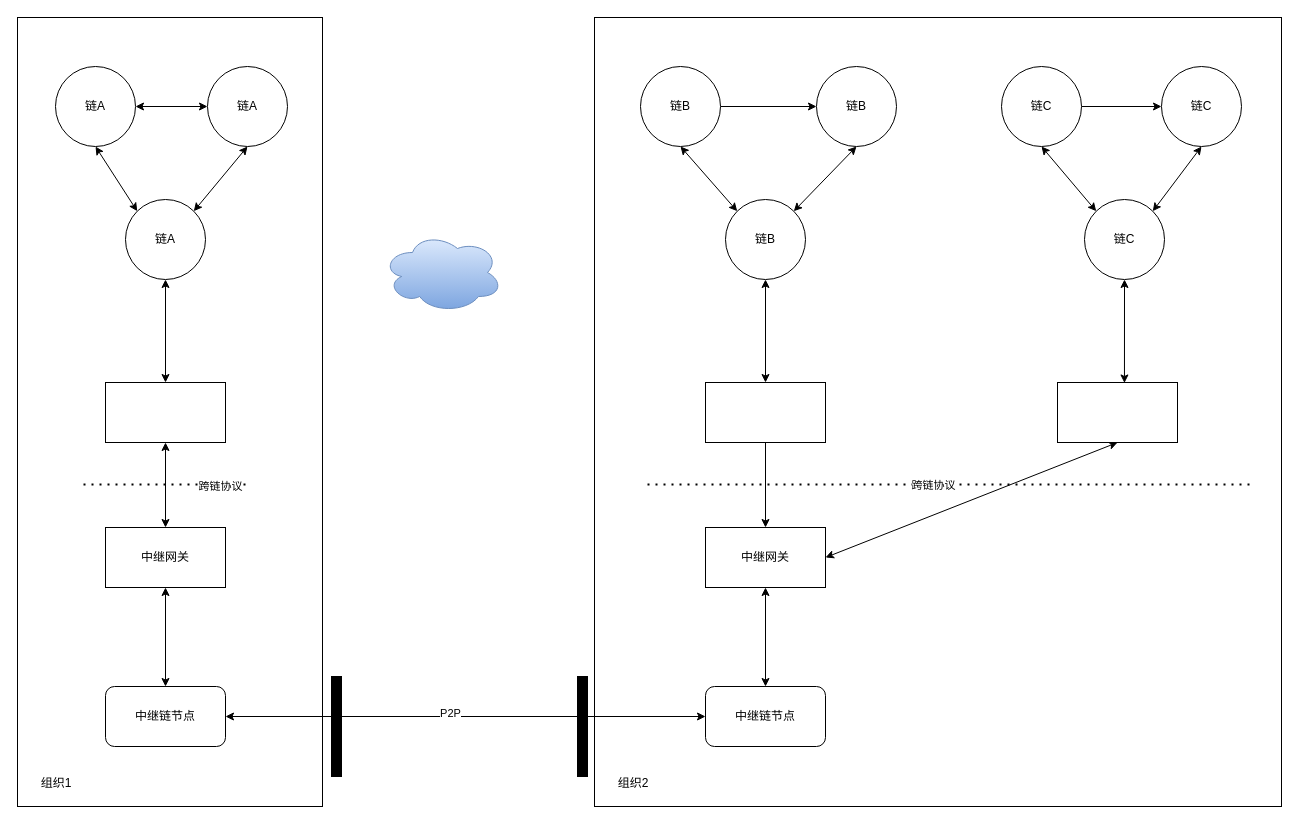
This 1299x824 diagram has some shape labels left out. Each missing label, with the centre of its shape:
链A跨链网关: point 165,412
链B跨链网关: point 765,412
链C跨链网关: point 1117,412
